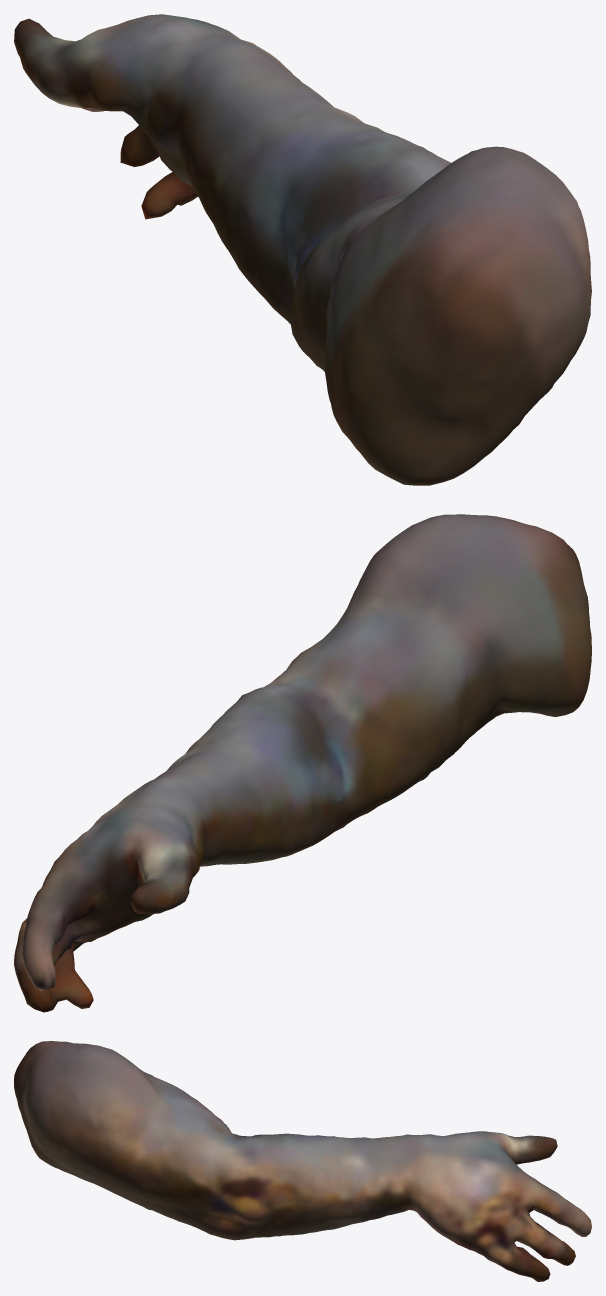
File: arm-min.glb
The picture shows the model from 3 angles, top to bottom: view 1: azimuth 30°, elevation 25°; view 2: azimuth 150°, elevation 25°; view 3: azimuth 270°, elevation 25°; orthographic projection. The views are drawn at different scales.
Parts seen in each view (by area): view 1: Mesh1; view 2: Mesh1; view 3: Mesh1.
Boxes of the visible parts, x1=… form: Mesh1: x1=14, y1=14, x2=591, y2=485; Mesh1: x1=14, y1=514, x2=591, y2=1012; Mesh1: x1=14, y1=1041, x2=591, y2=1281.
Size of the model in its own units: 0.4209 by 0.4621 by 1.2.
1 material, 1 textured.
